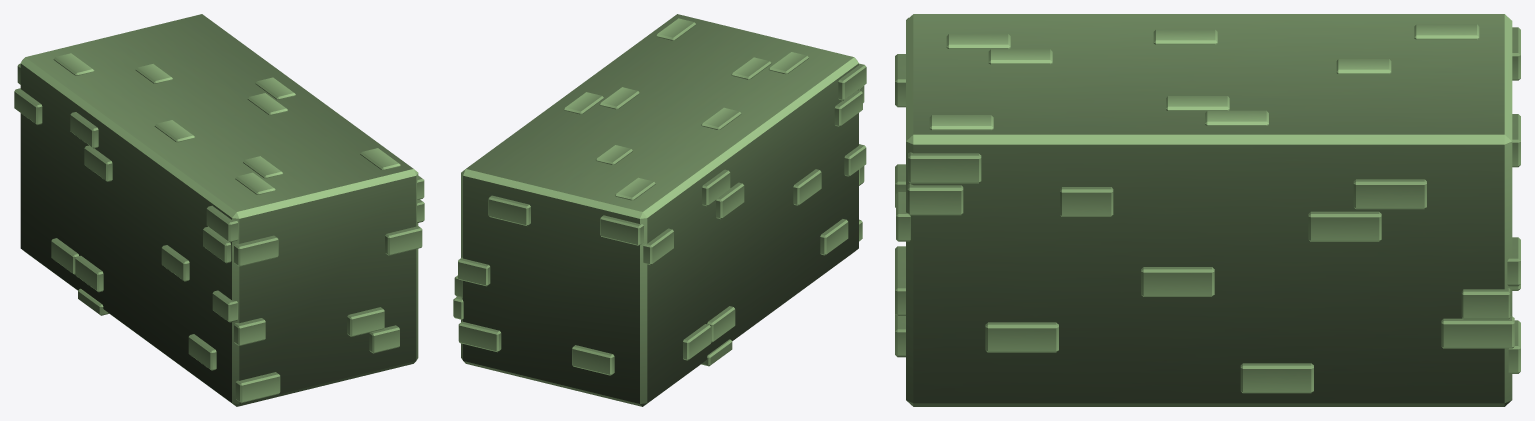
File: Structure_Big.fbx
The picture shows the model from 3 angles, left to right: view 1: azimuth 30°, elevation 25°; view 2: azimuth 150°, elevation 25°; view 3: azimuth 270°, elevation 25°; orthographic projection. The views are drawn at different scales.
Visible parts, largest first — view 1: Structure_Big; view 2: Structure_Big; view 3: Structure_Big.
Boxes of the visible parts, bbox=[...] form: Structure_Big: bbox=[14, 14, 424, 406]; Structure_Big: bbox=[453, 14, 866, 406]; Structure_Big: bbox=[895, 14, 1520, 406].
Bounding box in the file's own units: 308 × 298 × 607.
